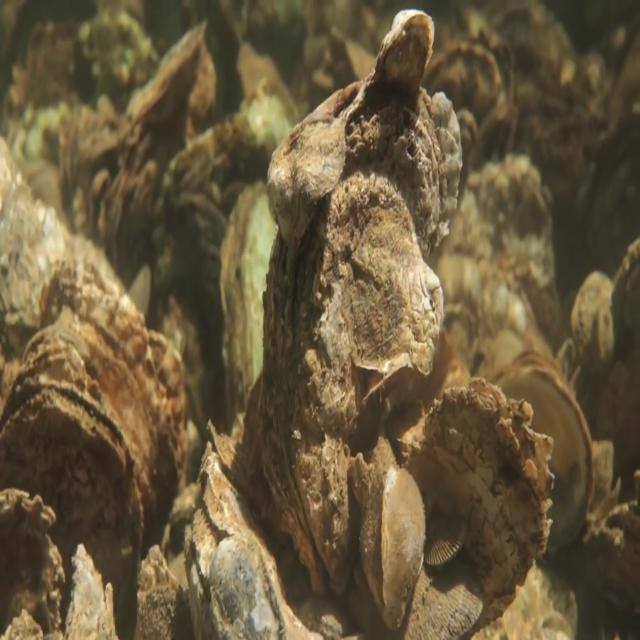Oyster-Closed: (260, 8, 469, 594), (395, 372, 561, 634), (2, 375, 148, 639), (179, 421, 328, 639), (356, 433, 427, 628), (405, 549, 487, 638)
Oyster-Indeterminate: (143, 80, 294, 422), (37, 253, 191, 533), (1, 136, 132, 358), (215, 168, 277, 418), (116, 17, 214, 136), (434, 33, 513, 170), (569, 259, 618, 372), (615, 236, 638, 359), (422, 519, 467, 568)
